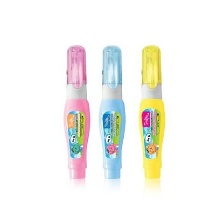correction_fluid: (136, 42, 168, 181), (96, 43, 128, 180), (62, 41, 92, 181)
